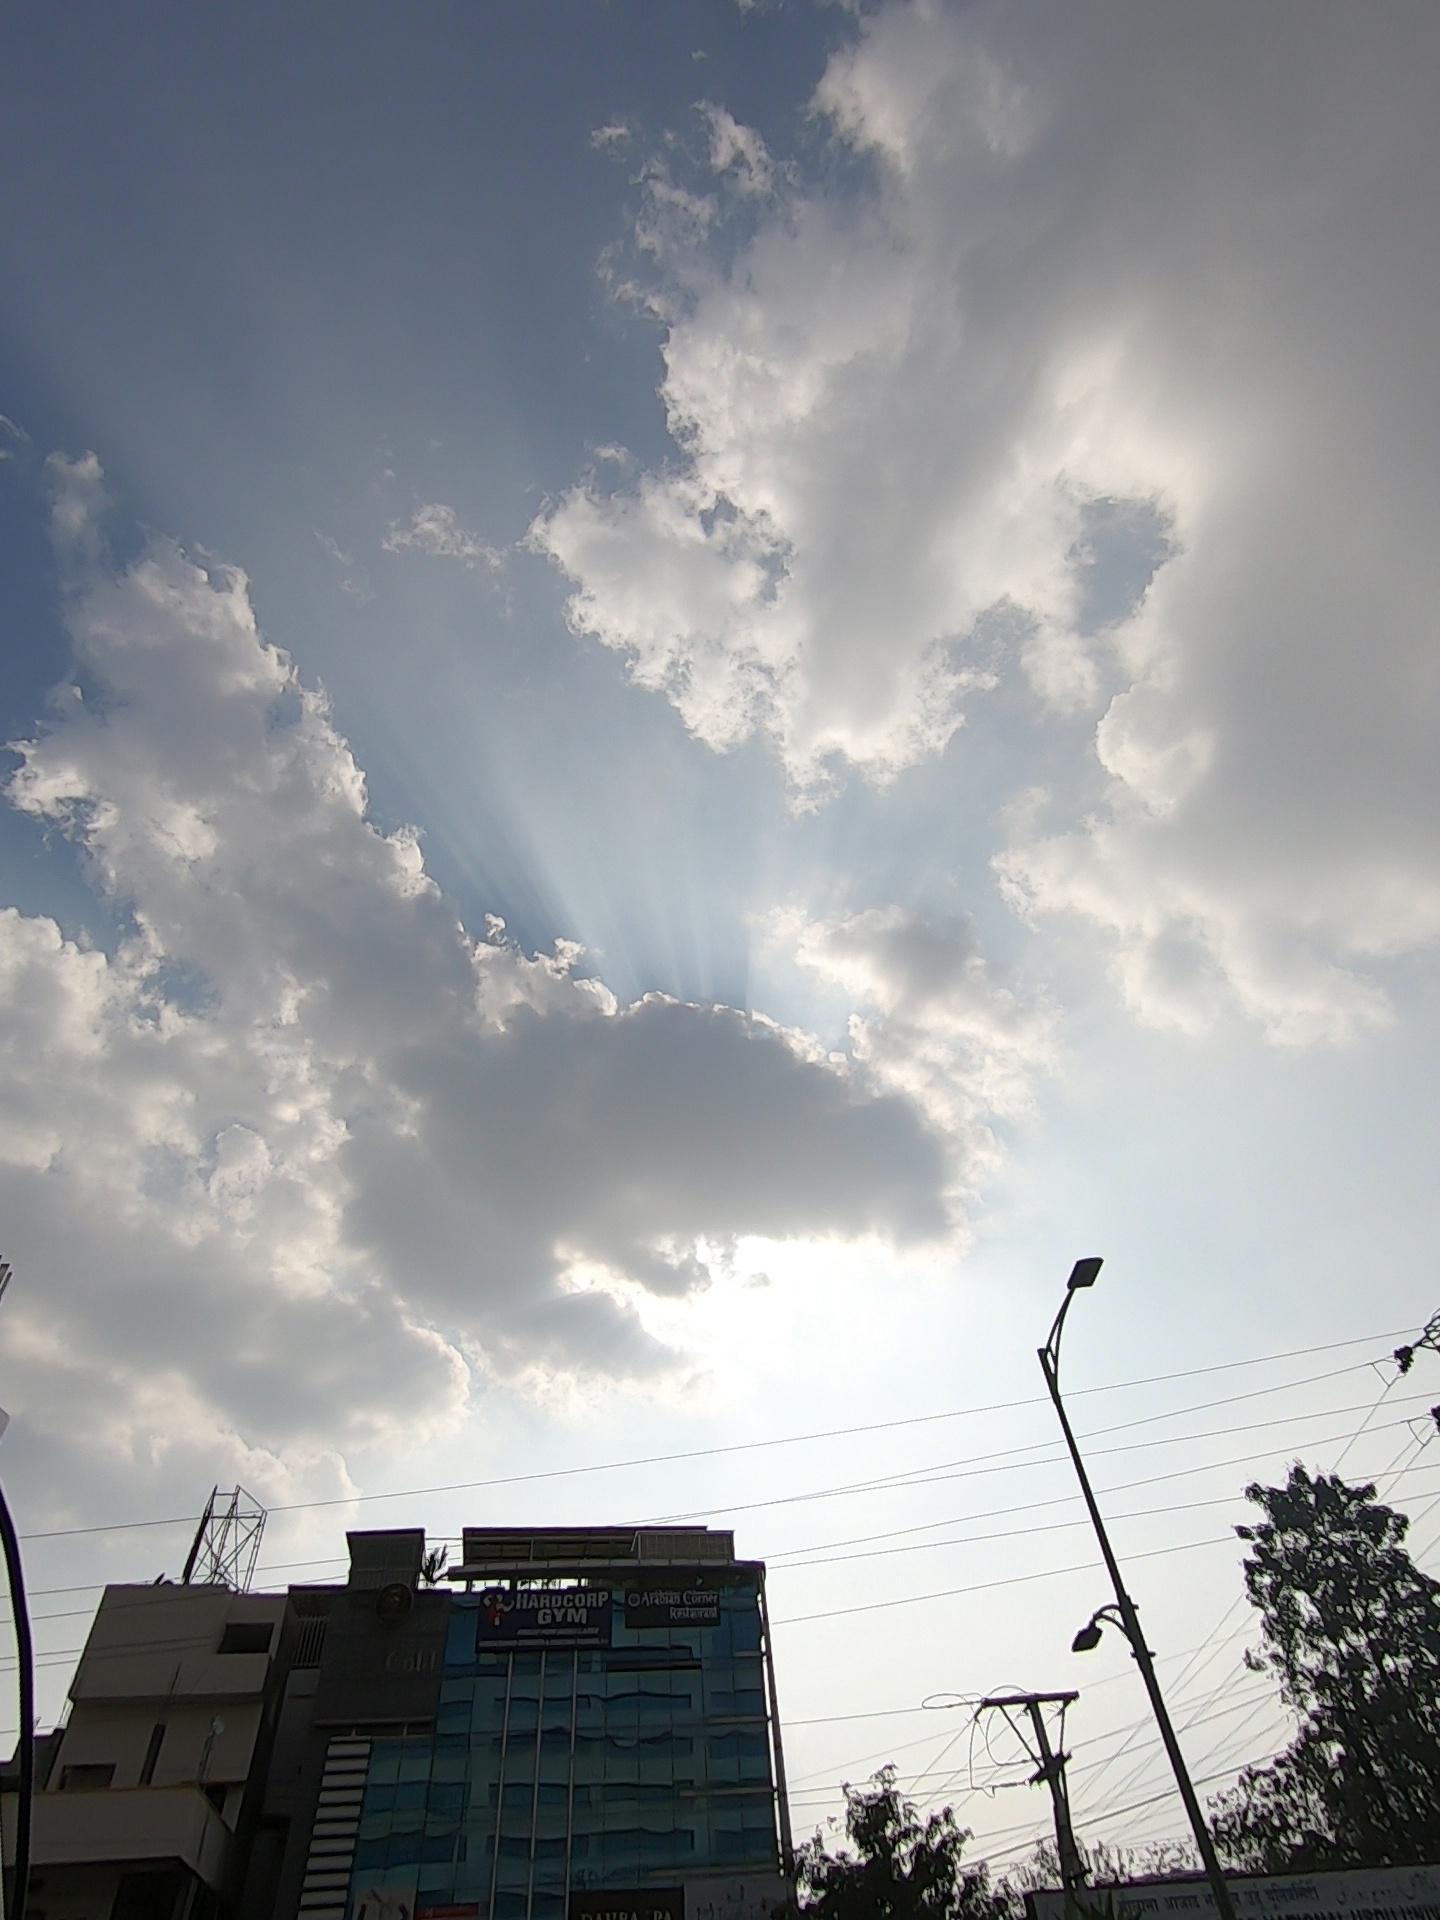off: (1019, 1051, 1175, 1847)
